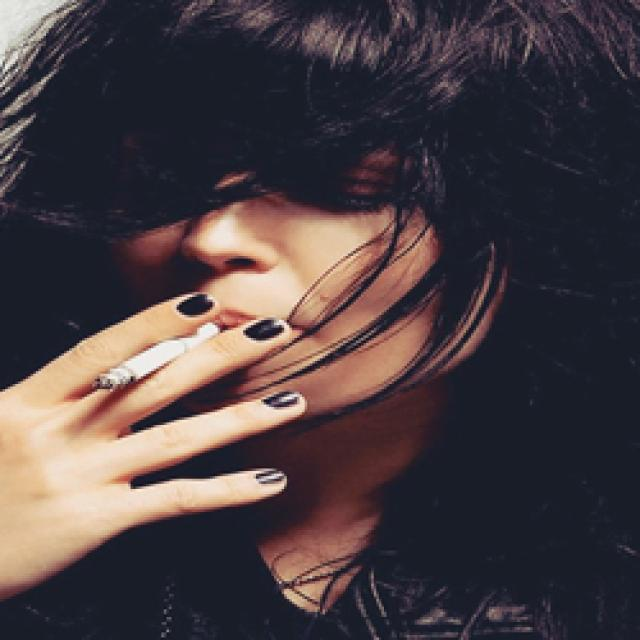Smooking: (56, 320, 258, 414)
